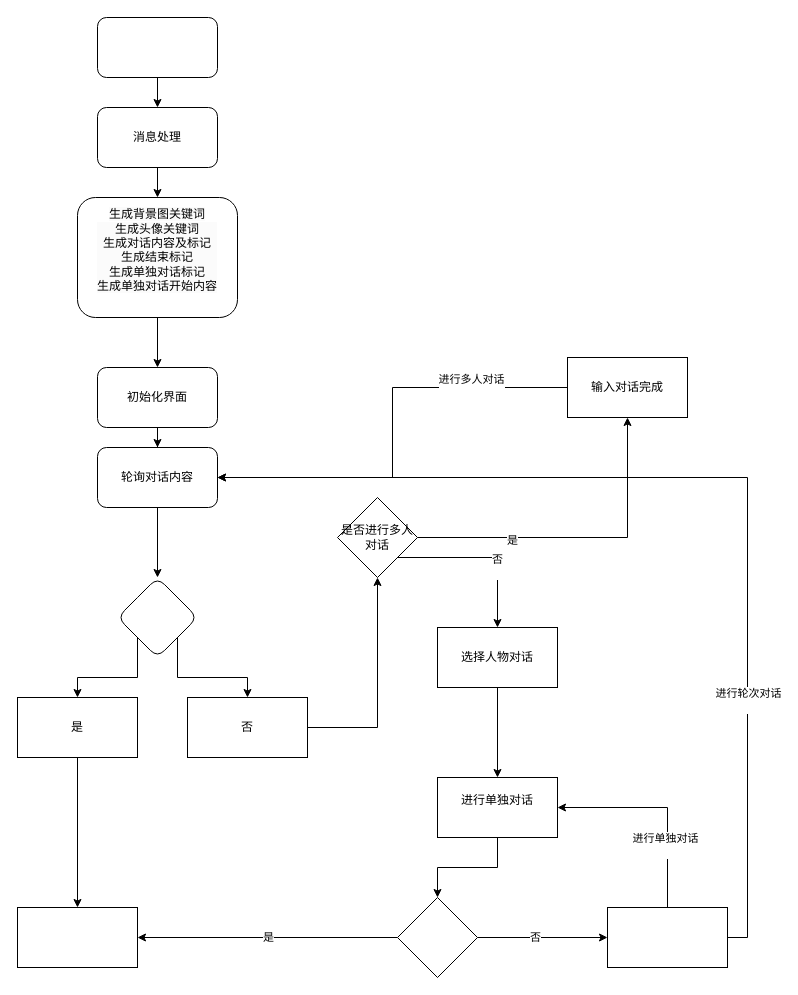
Some shapes in this 798 by 995 pixel diagram are drawn without their labels. The centre of each missing label's shape, as x and y in pixels:
客户端接受消息: pixel 157 47
是否完成: pixel 157 617
是否结束: pixel 437 937
是否进行其他人物单独对话: pixel 667 937
结束流程: pixel 77 937
